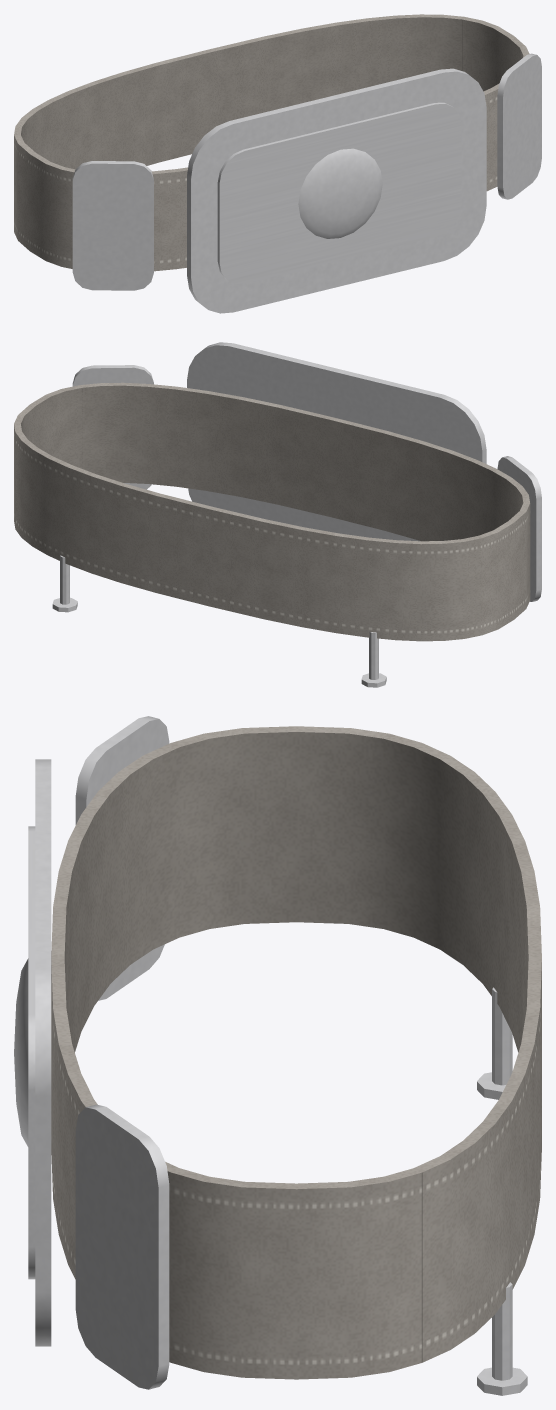
Rendered from SM_FS_Belt.glb.
3 views of the same model, one above another, from view 1: azimuth 30°, elevation 25°; view 2: azimuth 150°, elevation 25°; view 3: azimuth 270°, elevation 25° (orthographic). The views are drawn at different scales.
Visible parts, largest first — view 1: SM_FS_Belt; view 2: SM_FS_Belt; view 3: SM_FS_Belt.
Boxes of the visible parts, x1,y1,x2,y2 form: SM_FS_Belt: (14, 14, 541, 313); SM_FS_Belt: (14, 342, 541, 687); SM_FS_Belt: (14, 716, 541, 1395).
Size of the model in its own units: 0.3442 by 0.128 by 0.1659.
1 material, 1 textured.
